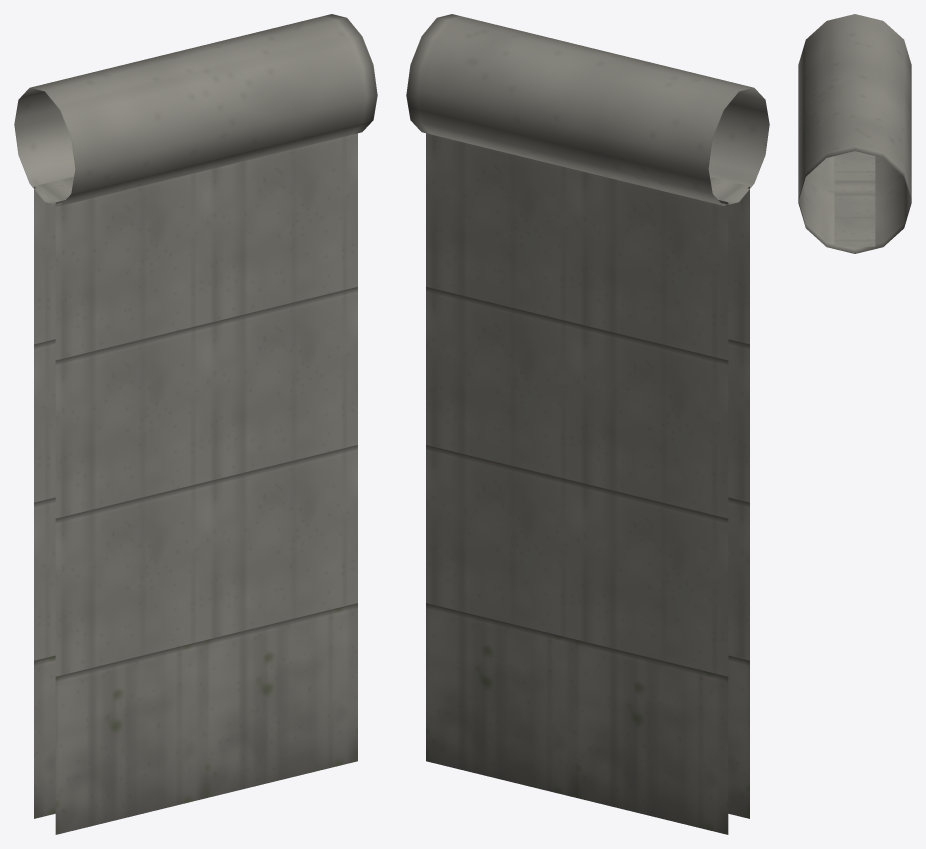
File: wall_yard.fbx
The picture shows the model from 3 angles, left to right: view 1: azimuth 30°, elevation 25°; view 2: azimuth 150°, elevation 25°; view 3: azimuth 270°, elevation 25°; orthographic projection. The views are drawn at different scales.
Visible parts, largest first — view 1: wall_yard; view 2: wall_yard; view 3: wall_yard.
Boxes of the visible parts, x1,y1,x2,y2 form: wall_yard: (14,14,377,834); wall_yard: (406,14,769,834); wall_yard: (798,14,911,253).
Size of the model in its own units: 2 by 4.65 by 0.7.
1 material, 1 textured.
